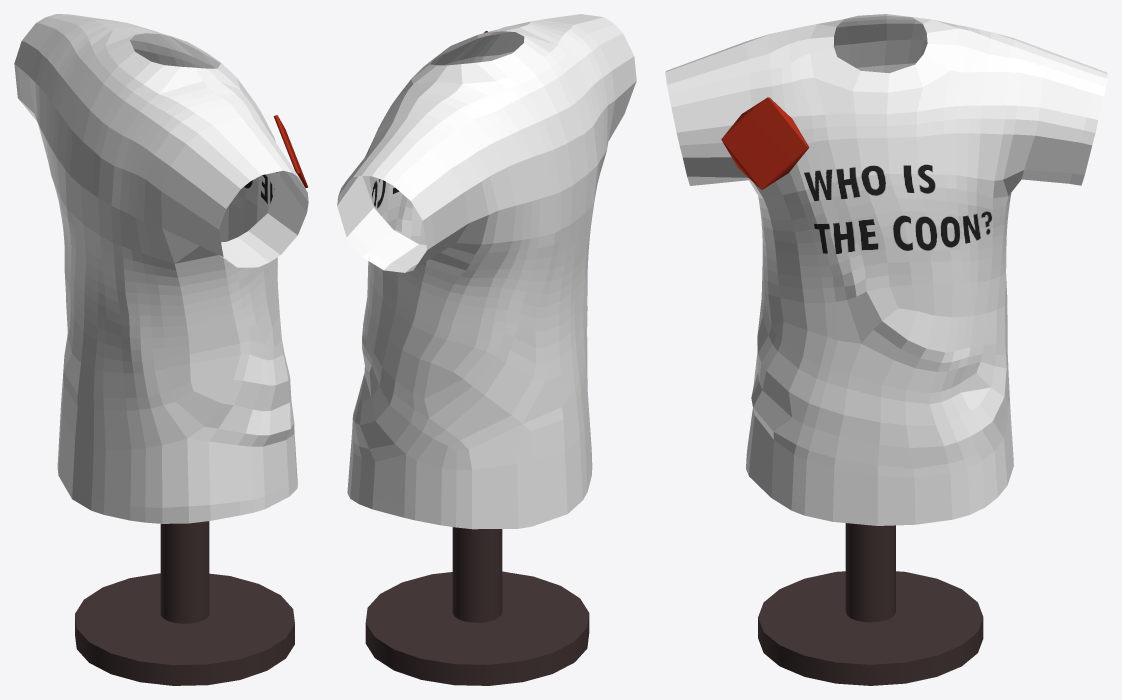
Rendered from Playera.obj.
The picture shows the model from 3 angles, left to right: view 1: azimuth 30°, elevation 25°; view 2: azimuth 150°, elevation 25°; view 3: azimuth 270°, elevation 25°; orthographic projection.
Parts seen in each view (by area): view 1: Tshirt_obj:Tshirt, pCylinder3, pasted__pCylinder3 group15, pPlatonic1; view 2: Tshirt_obj:Tshirt, pCylinder3, pasted__pCylinder3 group15; view 3: Tshirt_obj:Tshirt, pCylinder3, pasted__pCylinder3 group15, pPlatonic1.
Boxes of the visible parts, box(x1,y1,x2,y2) form: Tshirt_obj:Tshirt: box(14, 14, 308, 523); pCylinder3: box(75, 573, 294, 685); pasted__pCylinder3 group15: box(160, 521, 209, 623); pPlatonic1: box(273, 115, 307, 188); Tshirt_obj:Tshirt: box(337, 14, 636, 529); pCylinder3: box(365, 571, 589, 685); pasted__pCylinder3 group15: box(452, 527, 502, 622); Tshirt_obj:Tshirt: box(665, 14, 1107, 525); pCylinder3: box(758, 571, 983, 685); pasted__pCylinder3 group15: box(845, 523, 895, 622); pPlatonic1: box(721, 97, 808, 189).
Size of the model in its own units: 1.07 by 3.07 by 2.04.
4 materials, 4 textured.
